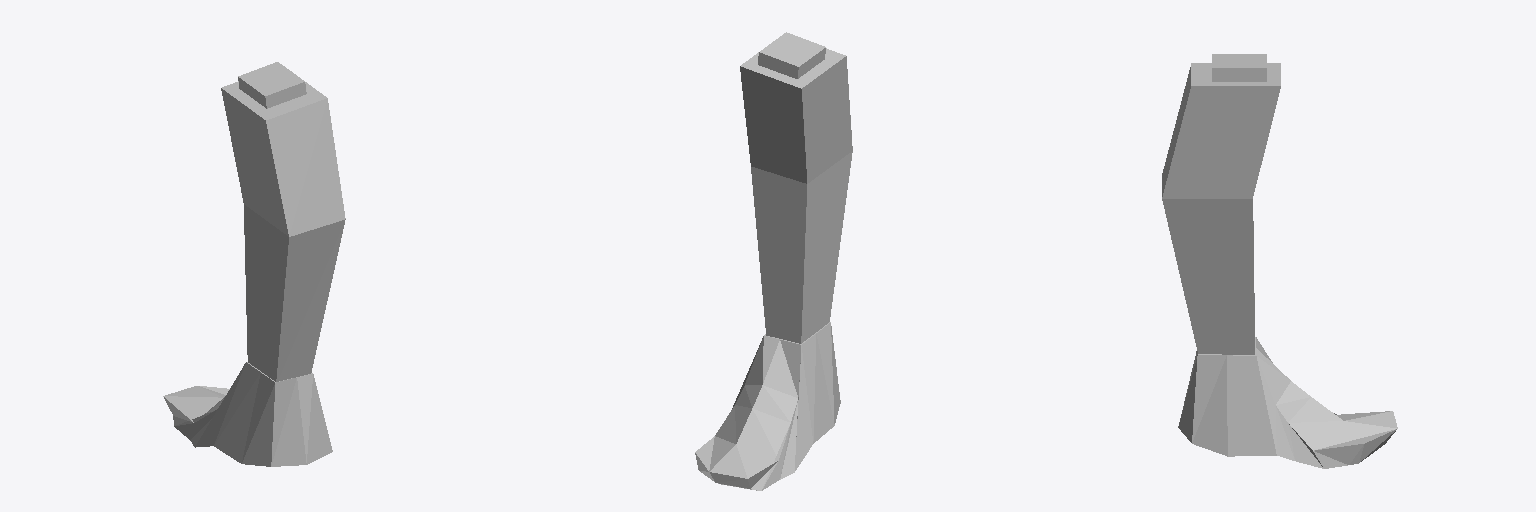
Rendered from genou_tibia_droit.obj.
The picture shows the model from 3 angles: view 1: azimuth 30°, elevation 25°; view 2: azimuth 150°, elevation 25°; view 3: azimuth 270°, elevation 25°; orthographic projection.
Parts seen in each view (by area): view 1: Object_30_Cube.004_Material.008_0, Object_31_Cube.004_Material.007_0, Object_29_Cube.004_Material.024_0; view 2: Object_30_Cube.004_Material.008_0, Object_31_Cube.004_Material.007_0, Object_29_Cube.004_Material.024_0; view 3: Object_30_Cube.004_Material.008_0, Object_31_Cube.004_Material.007_0, Object_29_Cube.004_Material.024_0.
Part boxes in pixels (x1,y1,x2,y2): Object_30_Cube.004_Material.008_0: (221, 71, 345, 381); Object_31_Cube.004_Material.007_0: (163, 362, 332, 466); Object_29_Cube.004_Material.024_0: (238, 62, 306, 108); Object_30_Cube.004_Material.008_0: (740, 33, 852, 343); Object_31_Cube.004_Material.007_0: (695, 322, 840, 490); Object_29_Cube.004_Material.024_0: (758, 32, 825, 78); Object_30_Cube.004_Material.008_0: (1162, 63, 1280, 354); Object_31_Cube.004_Material.007_0: (1178, 337, 1397, 468); Object_29_Cube.004_Material.024_0: (1212, 54, 1266, 81).
Bounding box in the file's own units: 1.12 × 4.77 × 2.61.